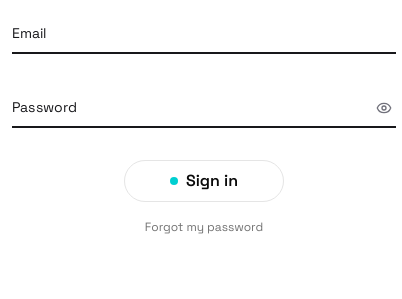
Test: <LoginForm /> › blocks submit and shows errors when fields are empty
The width and height of the screenshot is (402, 299).
Click the button "Sign in" at point(204, 181), box 124,160 -> 284,202
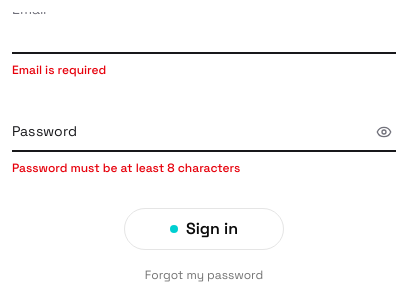
Expected: the message "Email is required" is shown, 12,62 -> 106,78
